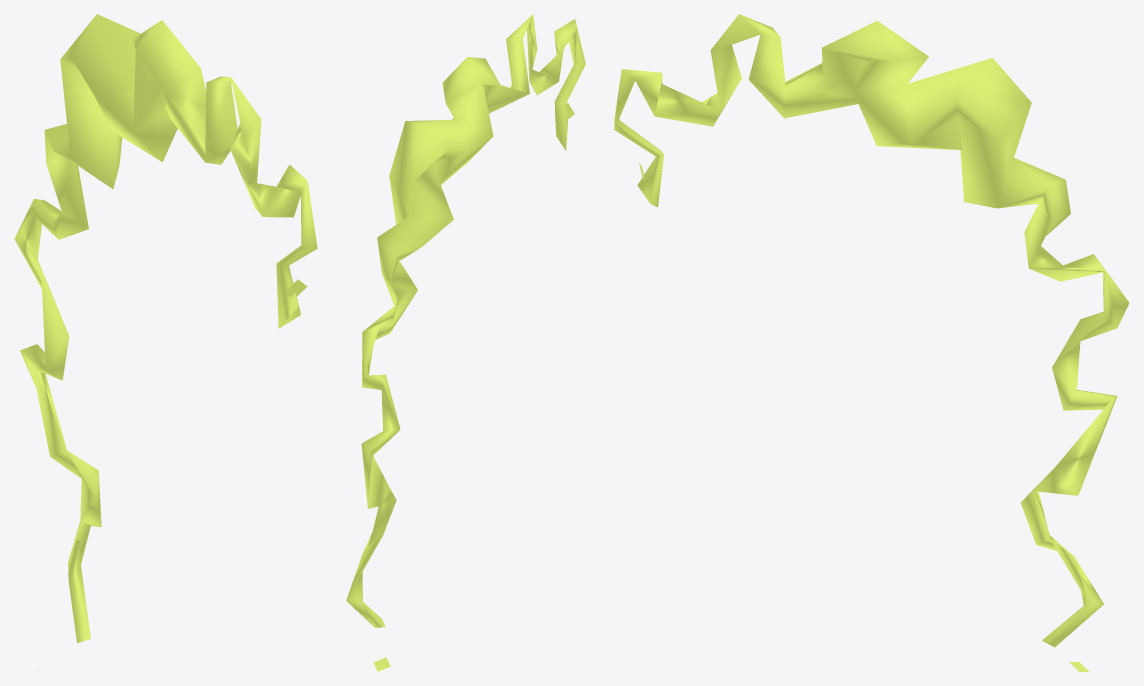
The model's file is caballo-003.gltf.
3 views of the same model, side by side, from view 1: azimuth 30°, elevation 25°; view 2: azimuth 150°, elevation 25°; view 3: azimuth 270°, elevation 25° (orthographic). The views are drawn at different scales.
Parts seen in each view (by area): view 1: Caballo-f.003; view 2: Caballo-f.003; view 3: Caballo-f.003.
Part boxes in pixels (x1,y1,x2,y2): Caballo-f.003: [14, 14, 317, 643]; Caballo-f.003: [346, 14, 585, 671]; Caballo-f.003: [614, 14, 1129, 671].
Bounding box in the file's own units: 0.0524 × 0.4921 × 0.3515.
Materials: 1 (1 with a texture image).
